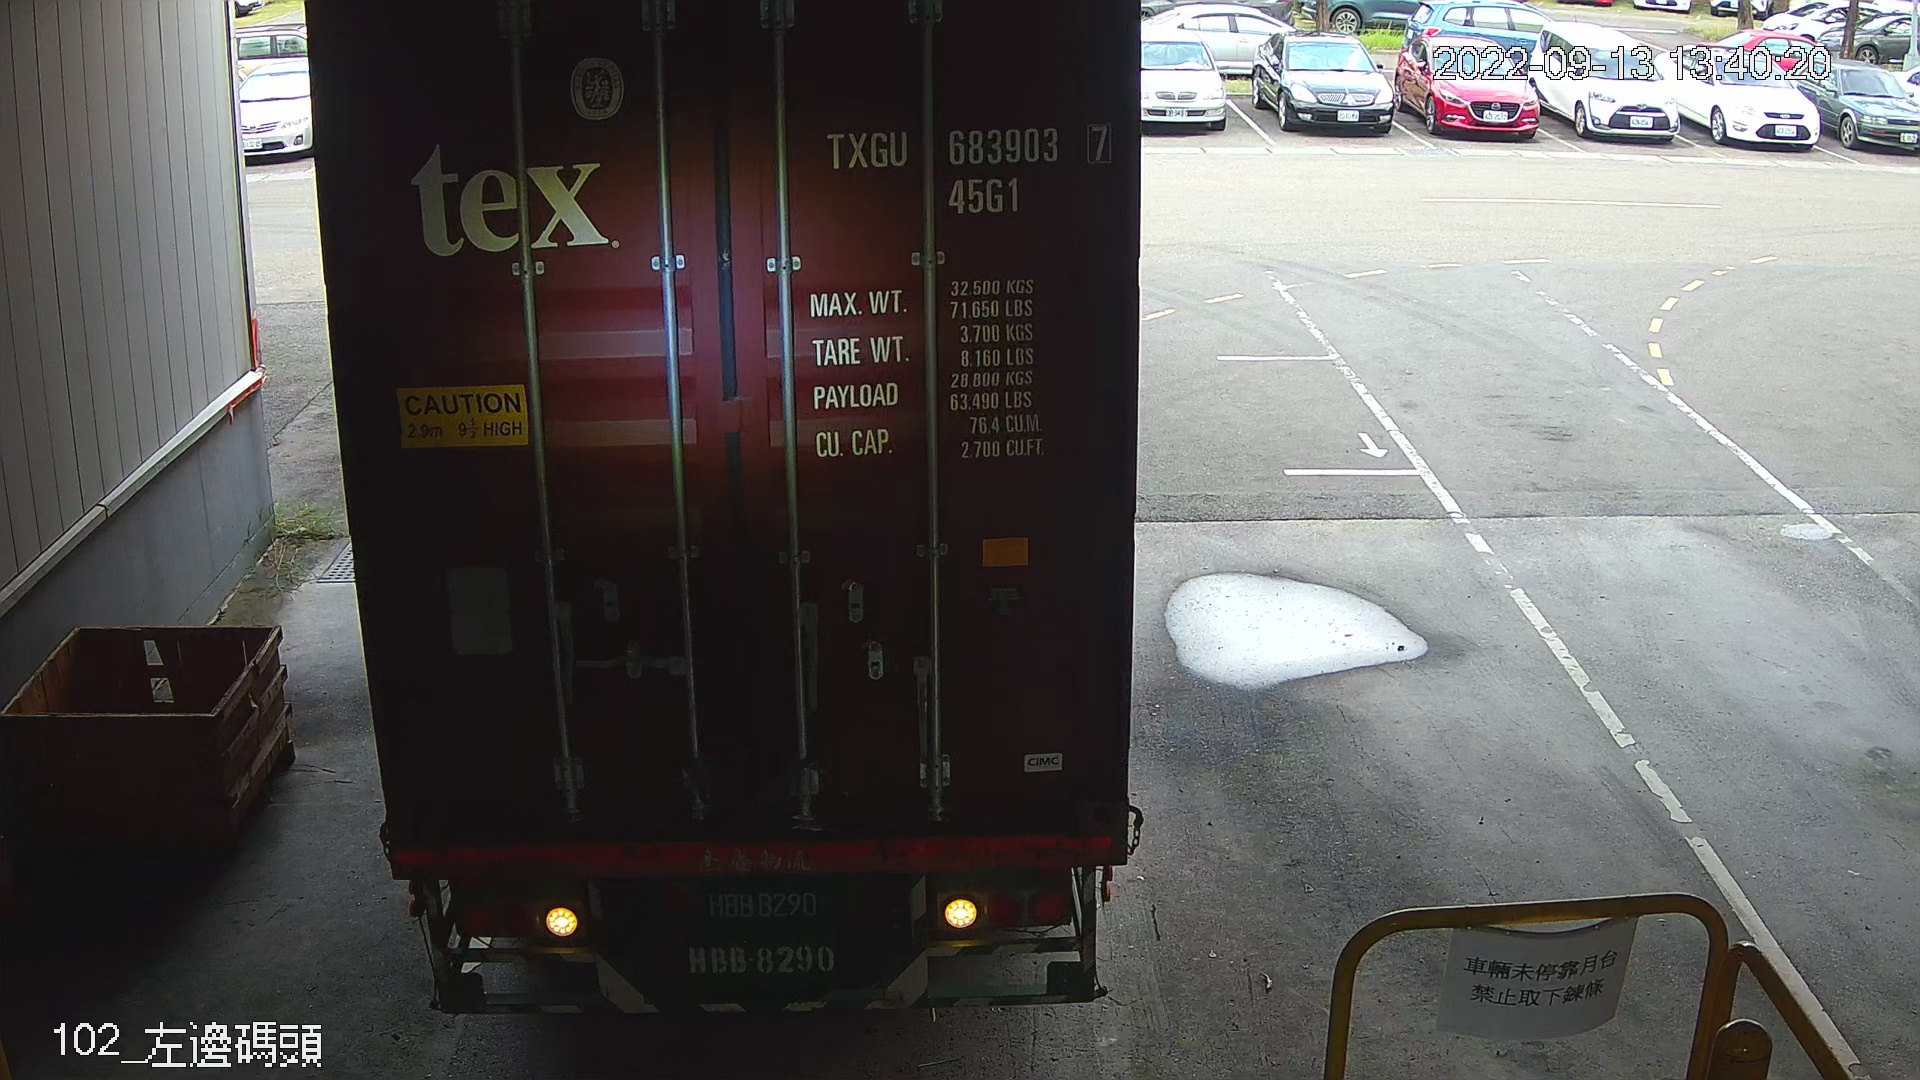container: (810, 113, 1120, 229)
